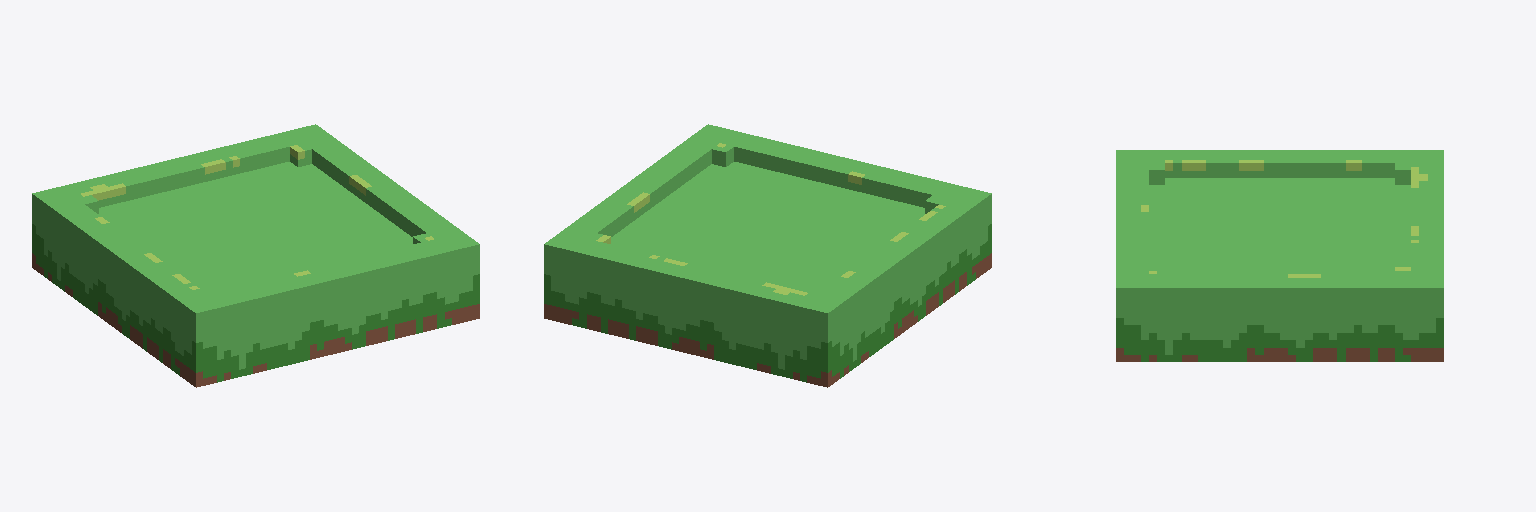
3 views of the same model, side by side, from view 1: azimuth 30°, elevation 25°; view 2: azimuth 150°, elevation 25°; view 3: azimuth 270°, elevation 25° (orthographic).
Visible parts, largest first — view 1: object 1; view 2: object 1; view 3: object 1.
Boxes of the visible parts, box(x1,y1,x2,y2) form: object 1: box(32, 124, 479, 387); object 1: box(544, 124, 991, 387); object 1: box(1116, 150, 1443, 361).
Bounding box in the file's own units: 4 × 1 × 4.
Materials: 1 (1 with a texture image).